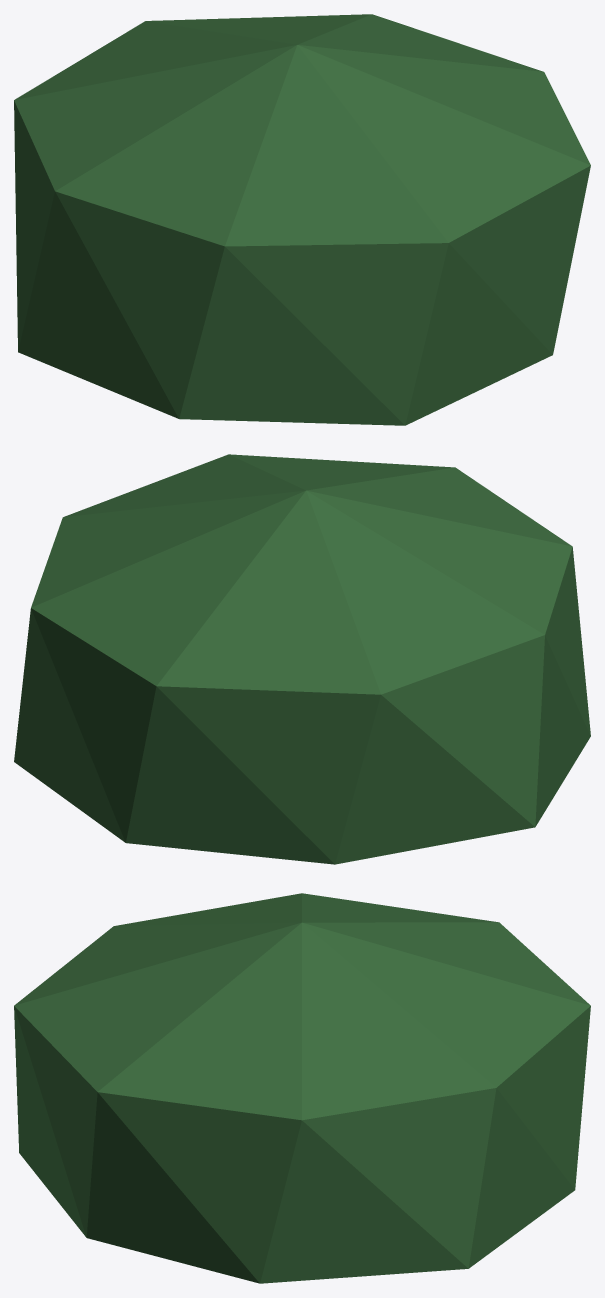
The model's file is shrub_yellow.glb.
3 renders of one model, top to bottom at view 1: azimuth 30°, elevation 25°; view 2: azimuth 150°, elevation 25°; view 3: azimuth 270°, elevation 25°, orthographic. The views are drawn at different scales.
Visible parts, largest first — view 1: shrub_yellow; view 2: shrub_yellow; view 3: shrub_yellow.
Part boxes in pixels (x1,y1,x2,y2): shrub_yellow: [14, 14, 590, 425]; shrub_yellow: [14, 454, 590, 864]; shrub_yellow: [14, 893, 590, 1283].
Bounding box in the file's own units: 1.2 × 0.8 × 1.26.
